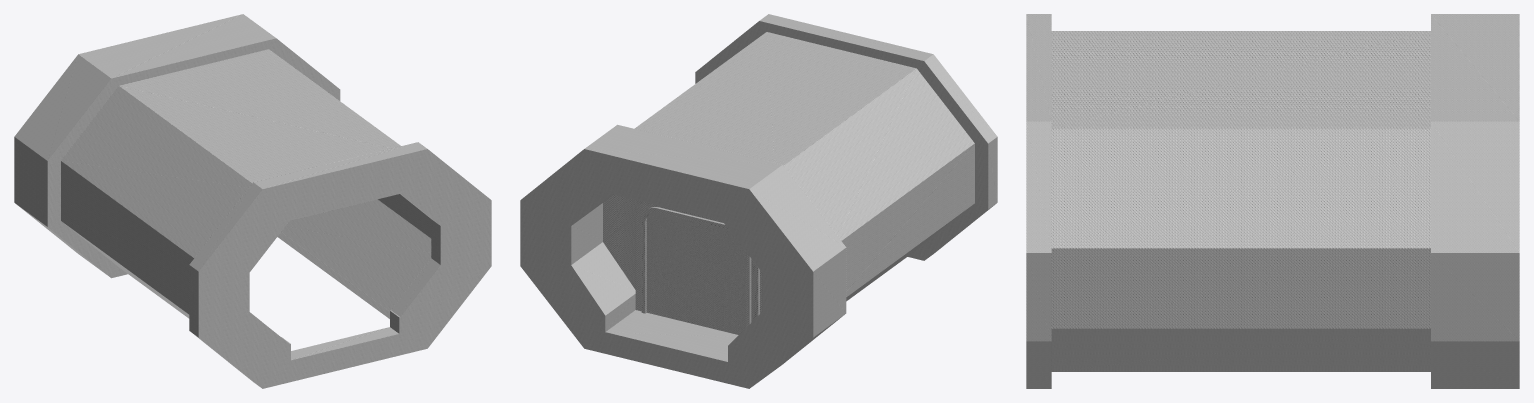
Rendered from DeadEnd.fbx.
3 renders of one model, left to right at view 1: azimuth 30°, elevation 25°; view 2: azimuth 150°, elevation 25°; view 3: azimuth 270°, elevation 25°, orthographic. The views are drawn at different scales.
Visible parts, largest first — view 1: Group1, joining1, joining_1_1; view 2: Group1, joining_1_1, joining1, Group2, Group3; view 3: Group1, joining_1_1, joining1.
Part boxes in pixels (x1,y1,x2,y2): Group1: (61, 49, 431, 318); joining1: (189, 142, 491, 388); joining_1_1: (14, 14, 340, 278); Group1: (603, 32, 974, 334); joining_1_1: (520, 124, 846, 388); joining1: (695, 14, 997, 260); Group2: (697, 222, 745, 334); Group3: (646, 212, 696, 323); Group1: (1051, 31, 1430, 371); joining_1_1: (1431, 14, 1519, 388); joining1: (1026, 14, 1051, 388).
Bounding box in the file's own units: 5.5 × 3.59 × 6.
